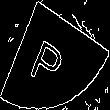P_NE: (33, 23, 77, 87)
